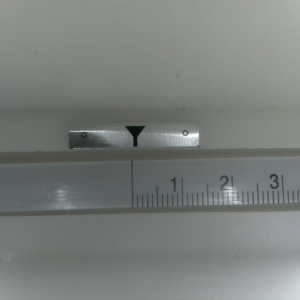1: (169, 176, 175, 191)
2: (220, 175, 230, 189)
3: (269, 174, 278, 189)
finger: (124, 126, 144, 148)
